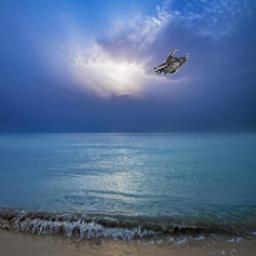Crow: (153, 51, 188, 76)
